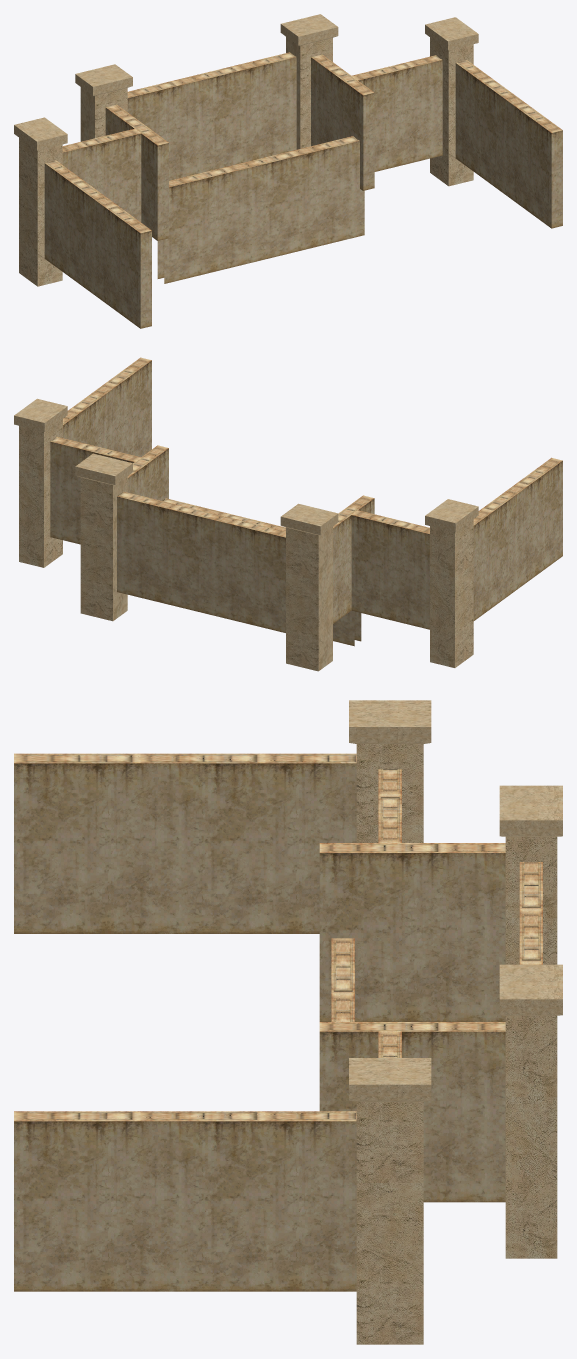
The model's file is poi_tato_corral_half_32x32_s03_l0.fbx.
3 views of the same model, one above another, from view 1: azimuth 30°, elevation 25°; view 2: azimuth 150°, elevation 25°; view 3: azimuth 270°, elevation 25° (orthographic). The views are drawn at different scales.
Parts seen in each view (by area): view 1: mesh_node; view 2: mesh_node; view 3: mesh_node.
Boxes of the visible parts, x1,y1,x2,y2 form: mesh_node: (14,14,562,328); mesh_node: (14,357,562,671); mesh_node: (14,700,562,1344).
Bounding box in the file's own units: 19.35 × 7.05 × 11.67.
